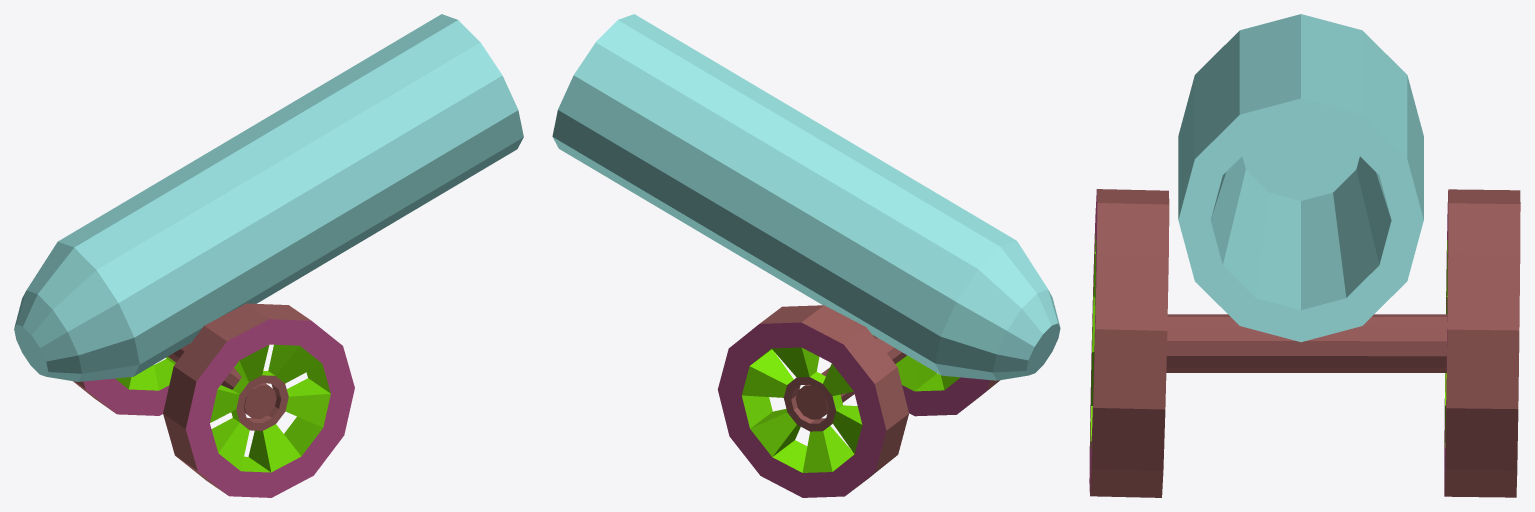
The model's file is cannon_unwrap.fbx.
3 renders of one model, left to right at view 1: azimuth 30°, elevation 25°; view 2: azimuth 150°, elevation 25°; view 3: azimuth 270°, elevation 25°, orthographic. The views are drawn at different scales.
Parts seen in each view (by area): view 1: cannon; view 2: cannon; view 3: cannon.
Boxes of the visible parts, x1,y1,x2,y2 form: cannon: [14, 14, 523, 497]; cannon: [552, 14, 1060, 497]; cannon: [1089, 14, 1520, 497].
Size of the model in its own units: 2.13 by 1.57 by 1.05.
